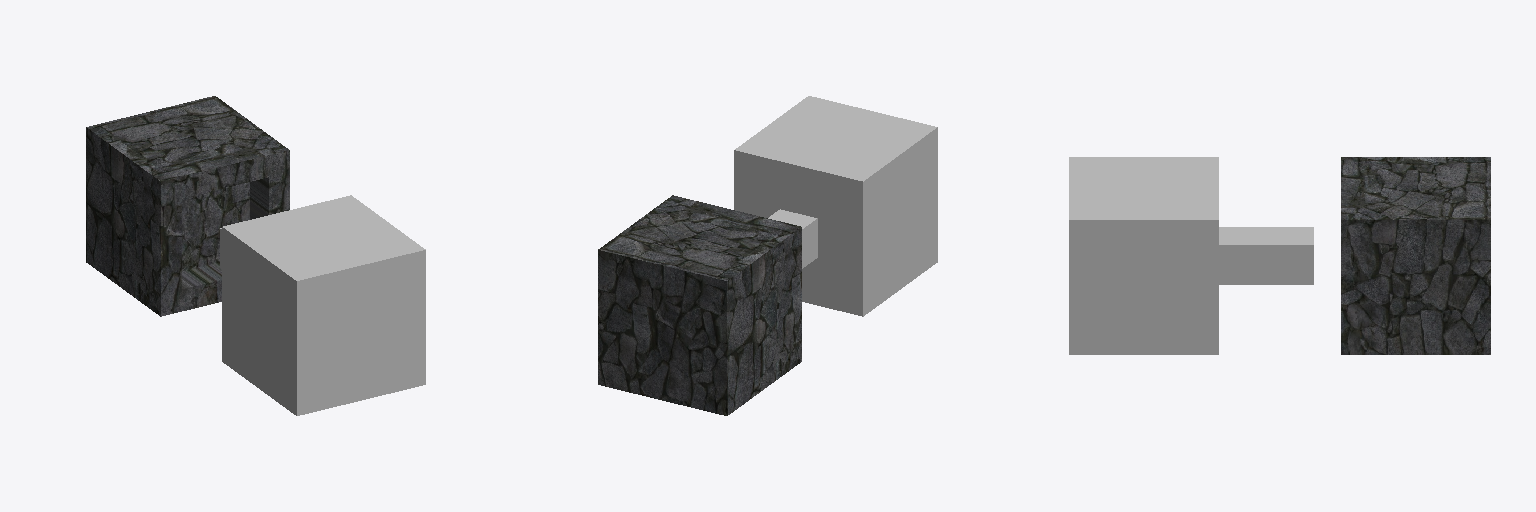
3 views of the same model, side by side, from view 1: azimuth 30°, elevation 25°; view 2: azimuth 150°, elevation 25°; view 3: azimuth 270°, elevation 25° (orthographic).
Visible parts, largest first — view 1: Cube_Cube.001, Cube.001_Cube.002; view 2: Cube.001_Cube.002, Cube_Cube.001; view 3: Cube_Cube.001, Cube.001_Cube.002.
Part boxes in pixels (left/top/right/bottom): Cube_Cube.001: left=220, top=195, right=425, bottom=415; Cube.001_Cube.002: left=86, top=96, right=289, bottom=316; Cube.001_Cube.002: left=598, top=195, right=801, bottom=415; Cube_Cube.001: left=734, top=96, right=937, bottom=316; Cube_Cube.001: left=1069, top=157, right=1313, bottom=354; Cube.001_Cube.002: left=1341, top=157, right=1490, bottom=354.
Bounding box in the file's own units: 2 × 2 × 5.65.
2 materials, 1 textured.